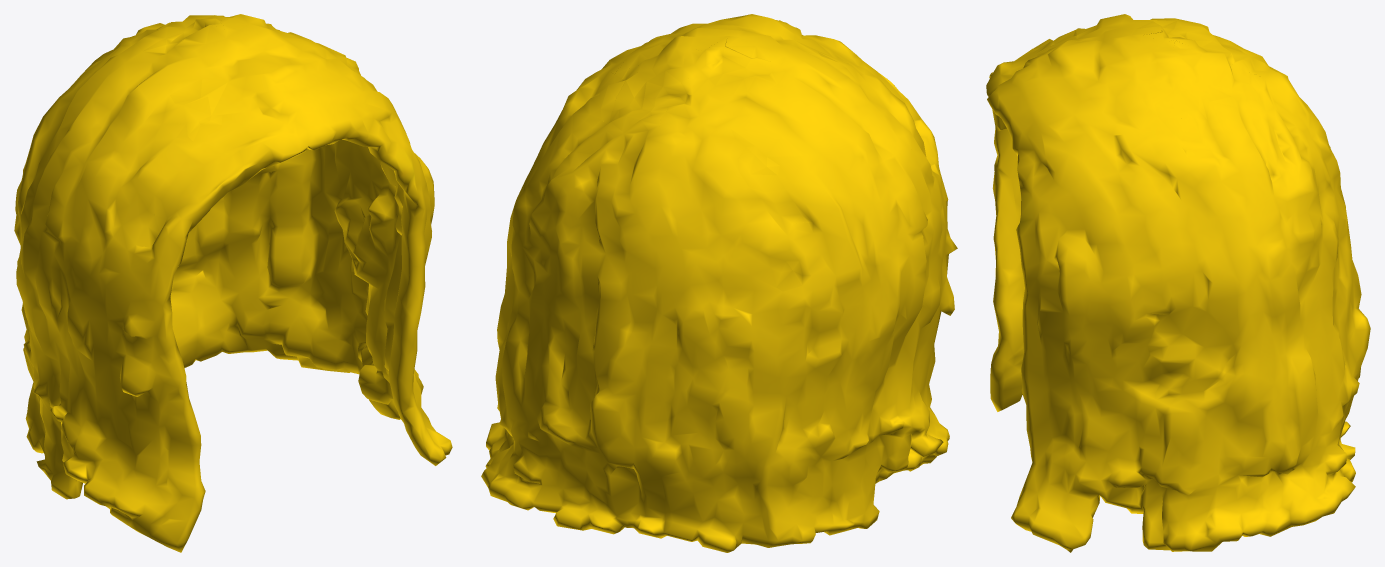
File: long hair yellow.glb
3 renders of one model, left to right at view 1: azimuth 30°, elevation 25°; view 2: azimuth 150°, elevation 25°; view 3: azimuth 270°, elevation 25°, orthographic. The views are drawn at different scales.
Visible parts, largest first — view 1: hair_long_light.001; view 2: hair_long_light.001; view 3: hair_long_light.001.
Boxes of the visible parts, bbox=[...] form: hair_long_light.001: bbox=[14, 14, 452, 552]; hair_long_light.001: bbox=[481, 14, 957, 552]; hair_long_light.001: bbox=[986, 14, 1370, 552].
Size of the model in its own units: 0.3758 by 0.4088 by 0.3278.
Materials: 1 (1 with a texture image).
